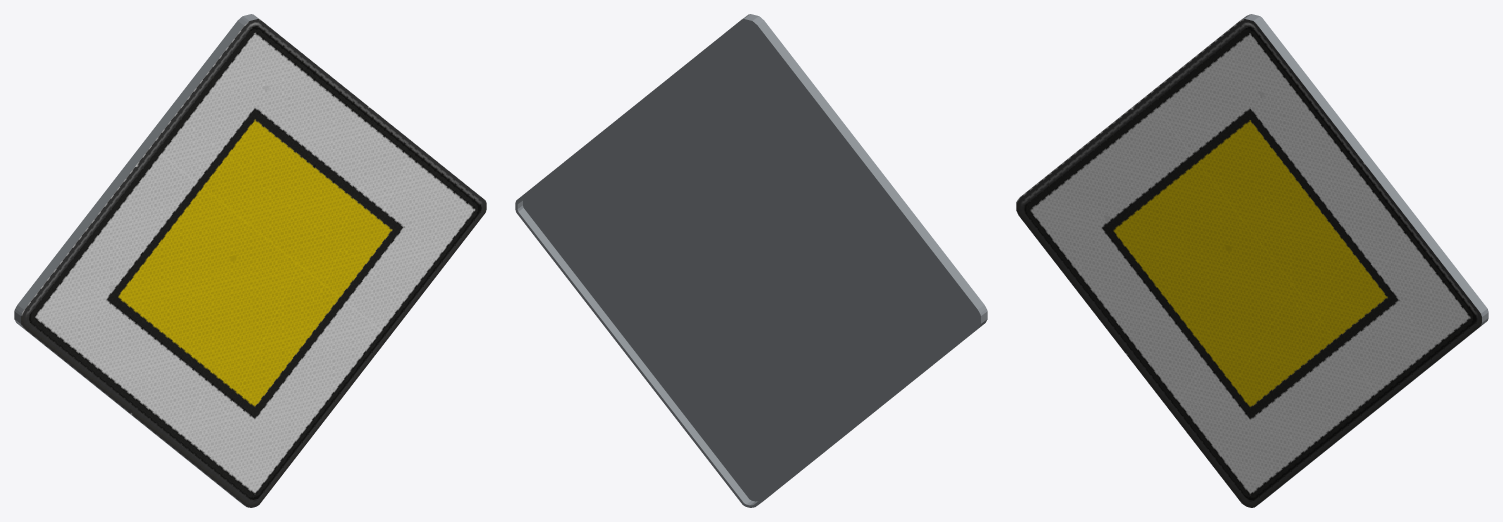
The picture shows the model from 3 angles, left to right: view 1: azimuth 30°, elevation 25°; view 2: azimuth 150°, elevation 25°; view 3: azimuth 330°, elevation 25°; orthographic projection.
Parts seen in each view (by area): view 1: cat_5dd8d402c09f4577; view 2: cat_5dd8d402c09f4577; view 3: cat_5dd8d402c09f4577.
Part boxes in pixels (x1,y1,x2,y2): cat_5dd8d402c09f4577: (14, 14, 486, 507); cat_5dd8d402c09f4577: (515, 14, 987, 507); cat_5dd8d402c09f4577: (1016, 14, 1488, 507).
Bounding box in the file's own units: 0.6 × 0.015 × 0.6.
Materials: 2 (1 with a texture image).
